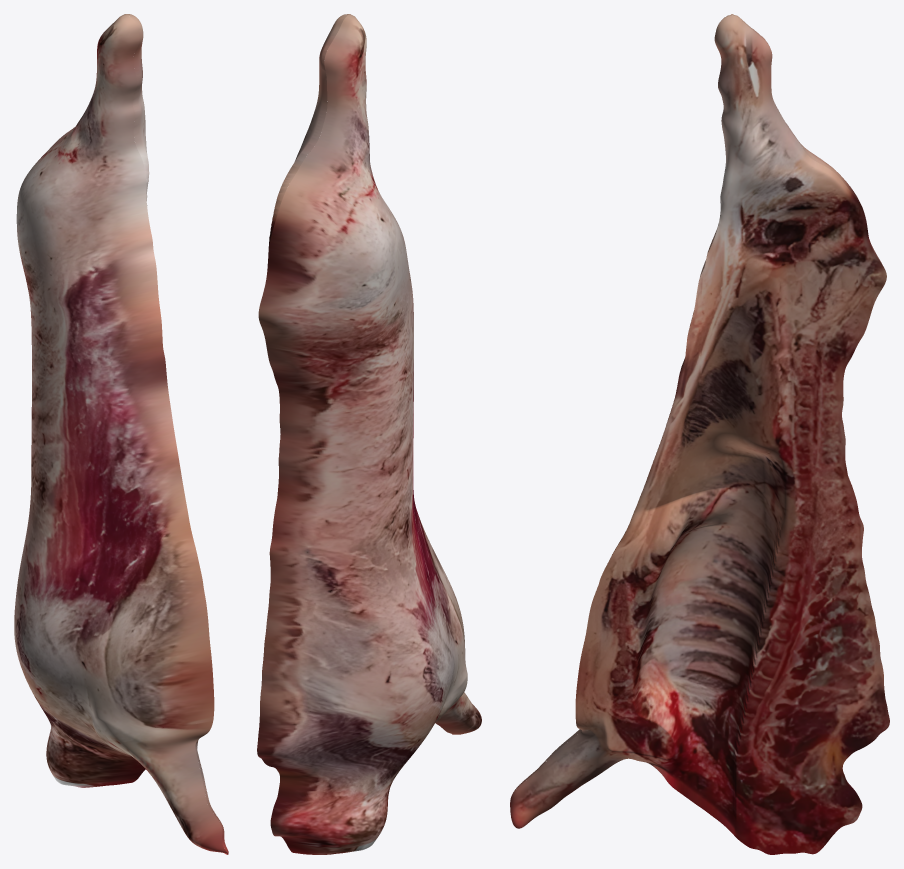
Rendered from demi_carcasse_boeuf_v21.glb.
3 renders of one model, left to right at view 1: azimuth 30°, elevation 25°; view 2: azimuth 150°, elevation 25°; view 3: azimuth 270°, elevation 25°, orthographic. The views are drawn at different scales.
Parts seen in each view (by area): view 1: face_exterieure, face_de_fente; view 2: face_exterieure, face_de_fente; view 3: face_de_fente, face_exterieure.
Boxes of the visible parts, bbox=[...] form: face_exterieure: bbox=[14, 14, 228, 854]; face_de_fente: bbox=[126, 14, 228, 853]; face_exterieure: bbox=[257, 14, 481, 854]; face_de_fente: bbox=[268, 14, 452, 734]; face_de_fente: bbox=[510, 15, 889, 854]; face_exterieure: bbox=[513, 14, 882, 792].
Size of the model in its own units: 0.4163 by 2.5 by 1.03.
Materials: 2 (2 with a texture image).
